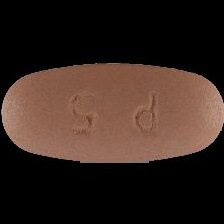39328-106: (0, 0, 224, 224)
